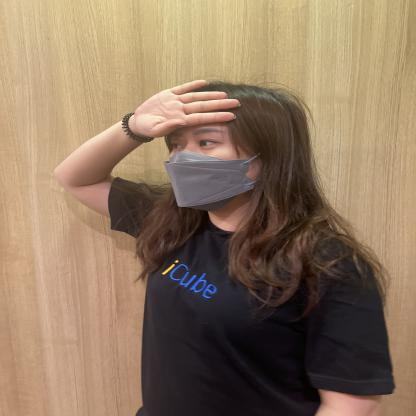Sick: (75, 40, 265, 158)
